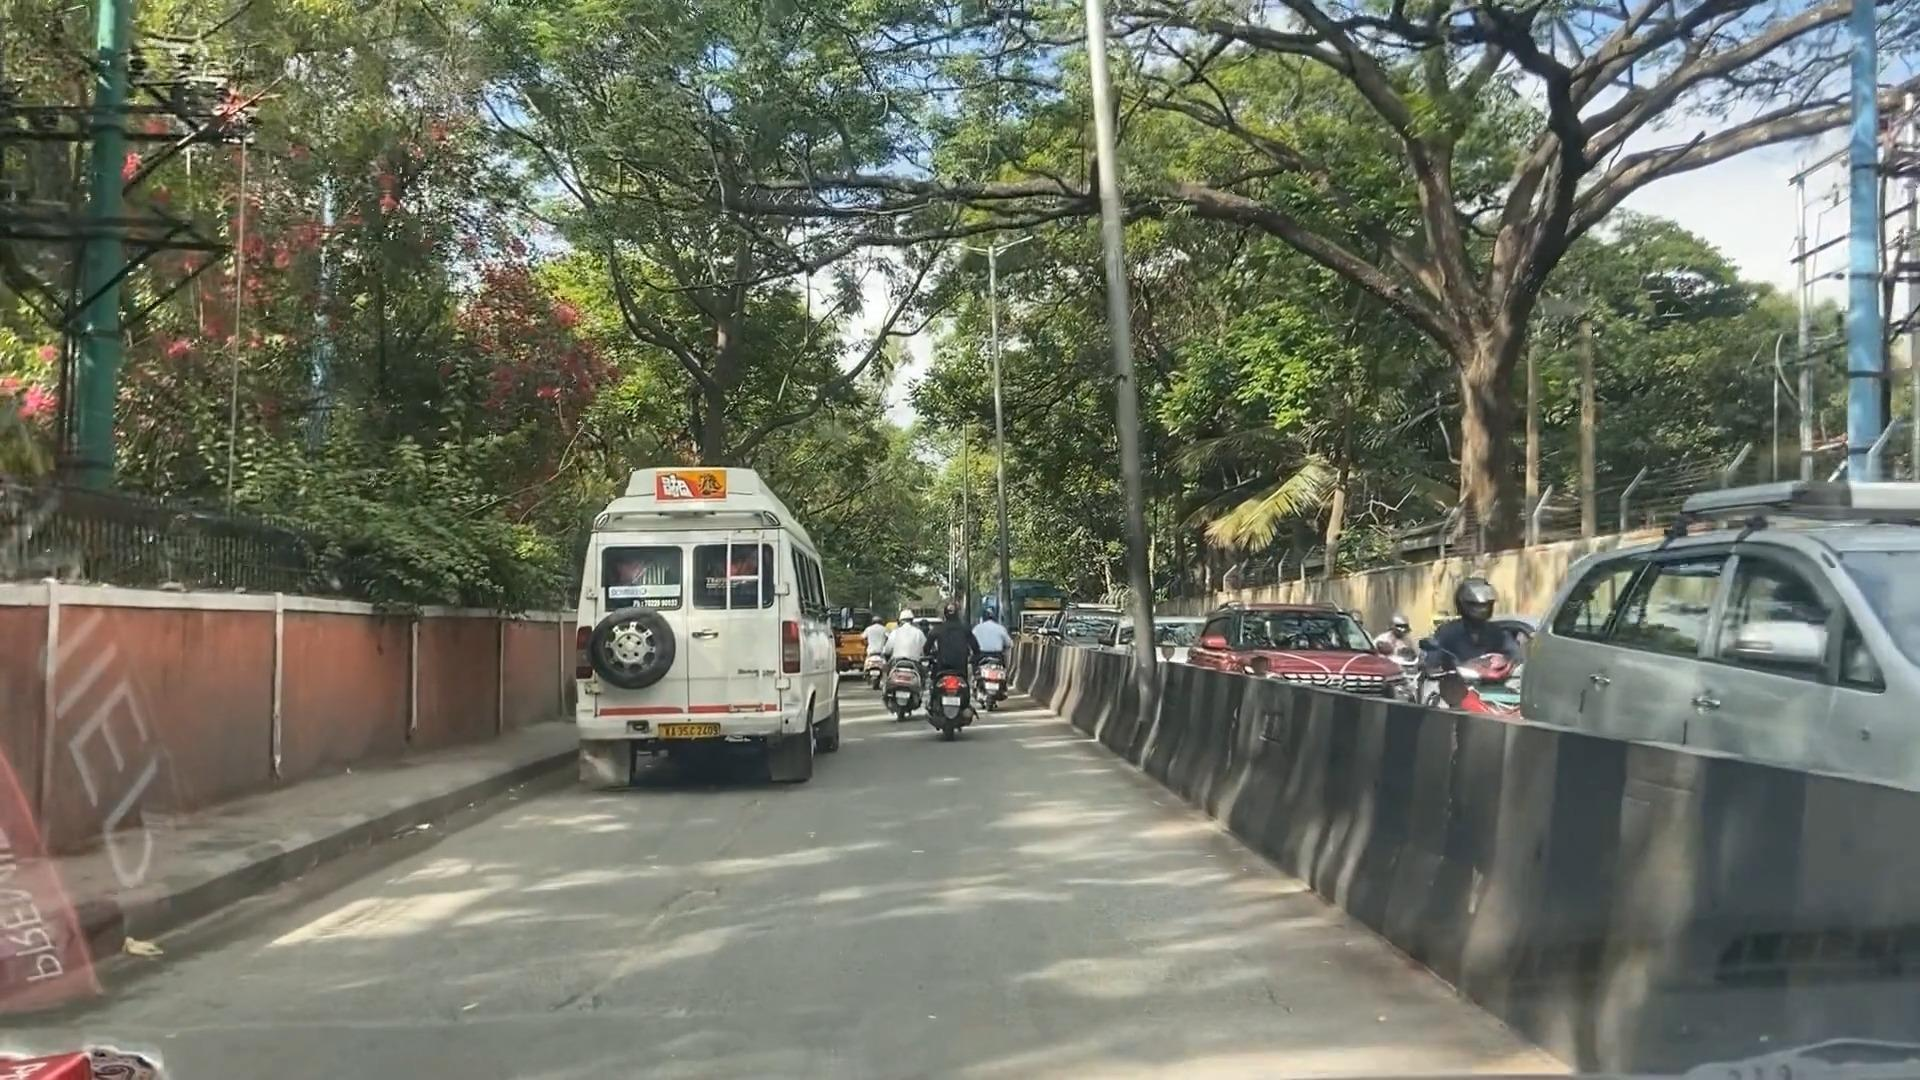HMV: (587, 473, 823, 794)
LMV: (897, 576, 986, 753)
